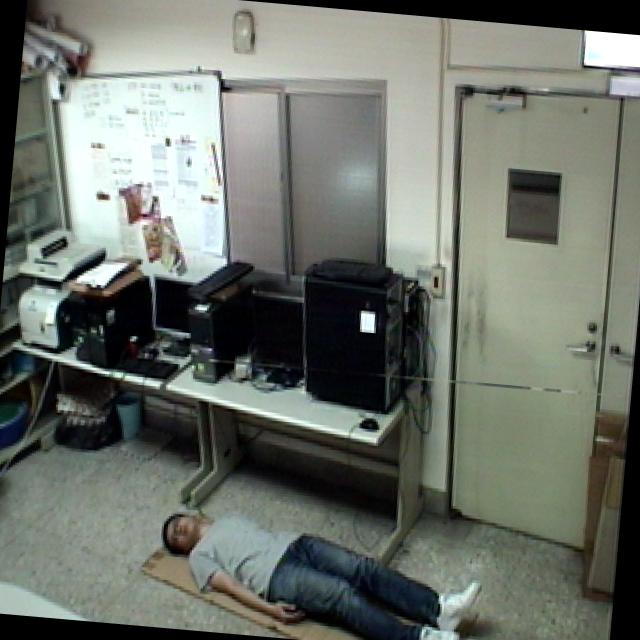lie: (143, 479, 500, 640)
